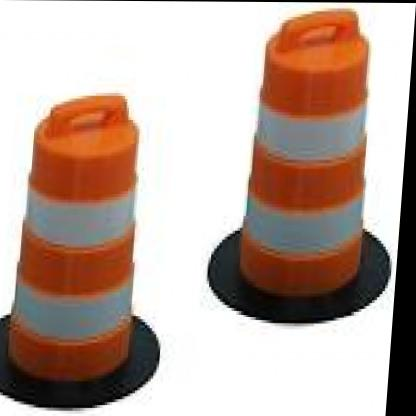obstacle: (4, 83, 161, 399), (232, 10, 386, 299)
